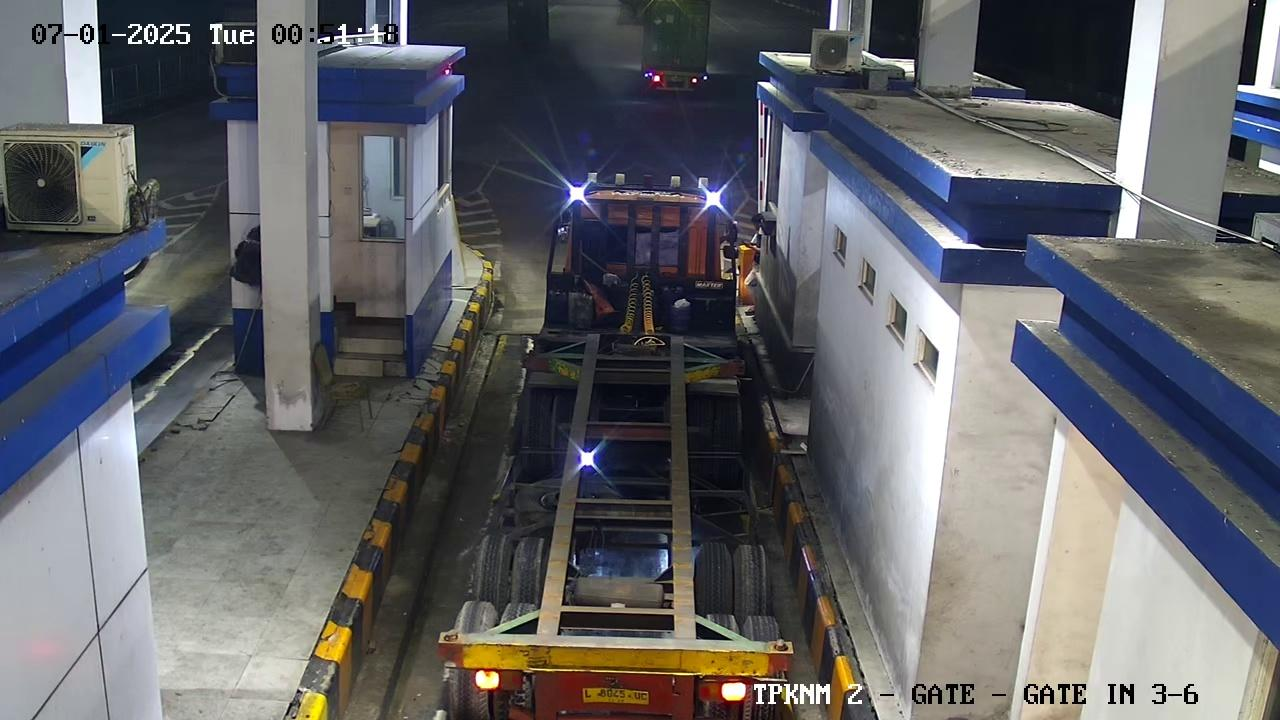plate_number: (572, 683, 668, 713)
